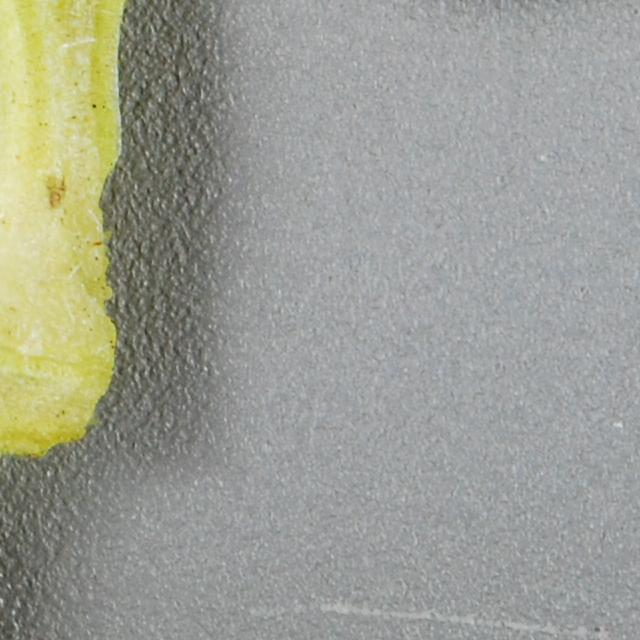Tomato Early blight leaf: (0, 0, 640, 55)
